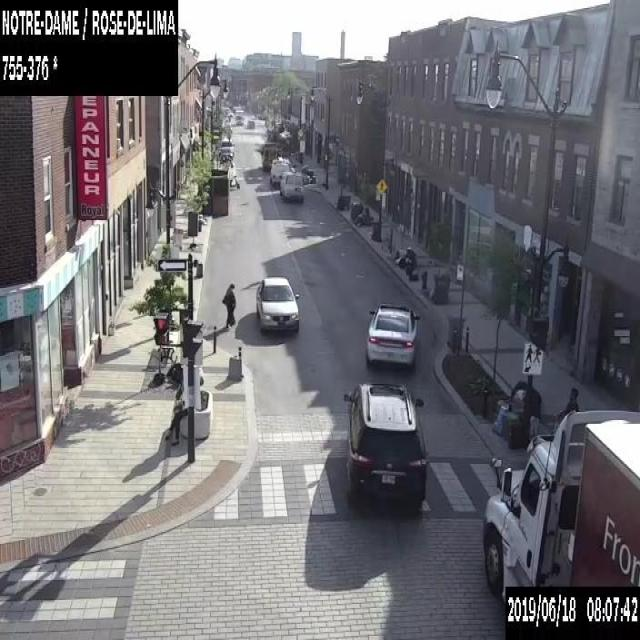pedestrian: (164, 376, 188, 444), (221, 281, 236, 327), (559, 386, 578, 412)
vehicle: (482, 409, 639, 604), (342, 382, 427, 502), (364, 303, 421, 361), (255, 276, 299, 330), (278, 170, 304, 200), (270, 156, 290, 188), (260, 142, 282, 170), (218, 137, 234, 156), (219, 148, 232, 160), (234, 109, 244, 124), (246, 119, 254, 128)
